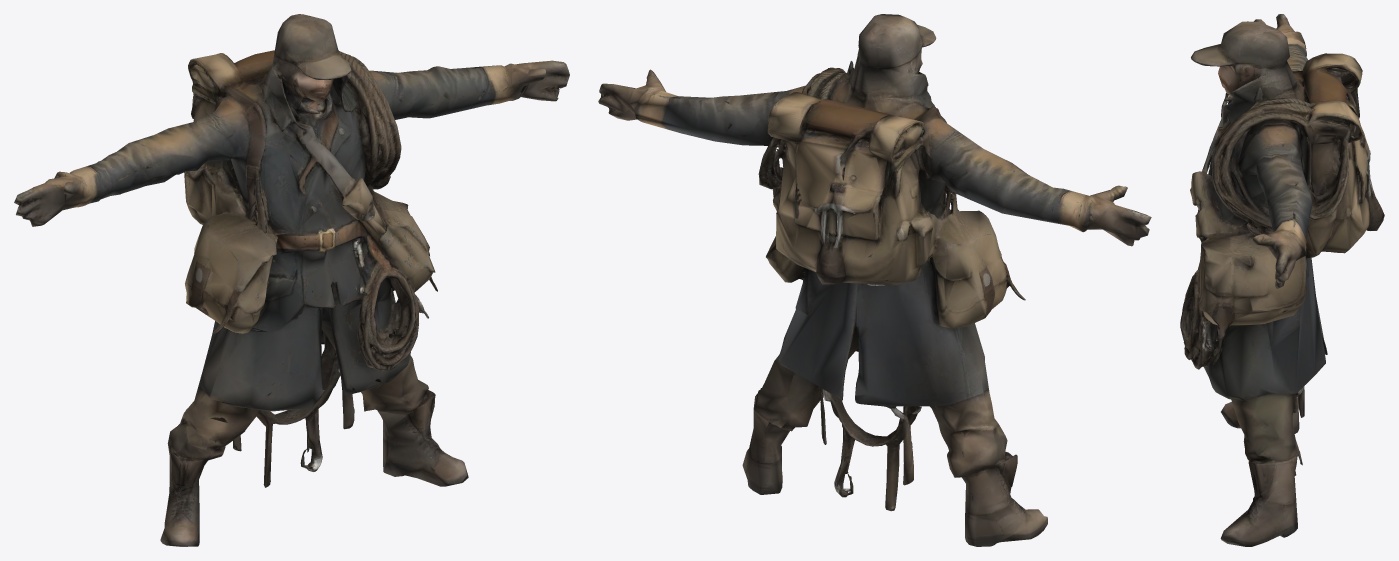
Rendered from mporter.glb.
3 views of the same model, side by side, from view 1: azimuth 30°, elevation 25°; view 2: azimuth 150°, elevation 25°; view 3: azimuth 270°, elevation 25° (orthographic). The views are drawn at different scales.
Size of the model in its own units: 2 by 1.68 by 0.6856.
Materials: 1 (1 with a texture image).
